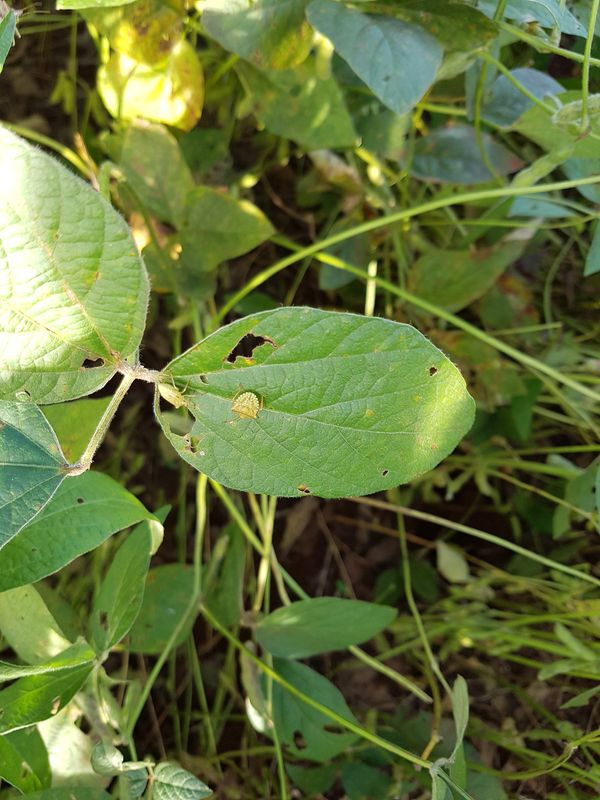Euschistus_heros_ninfa: (224, 382, 269, 429)
